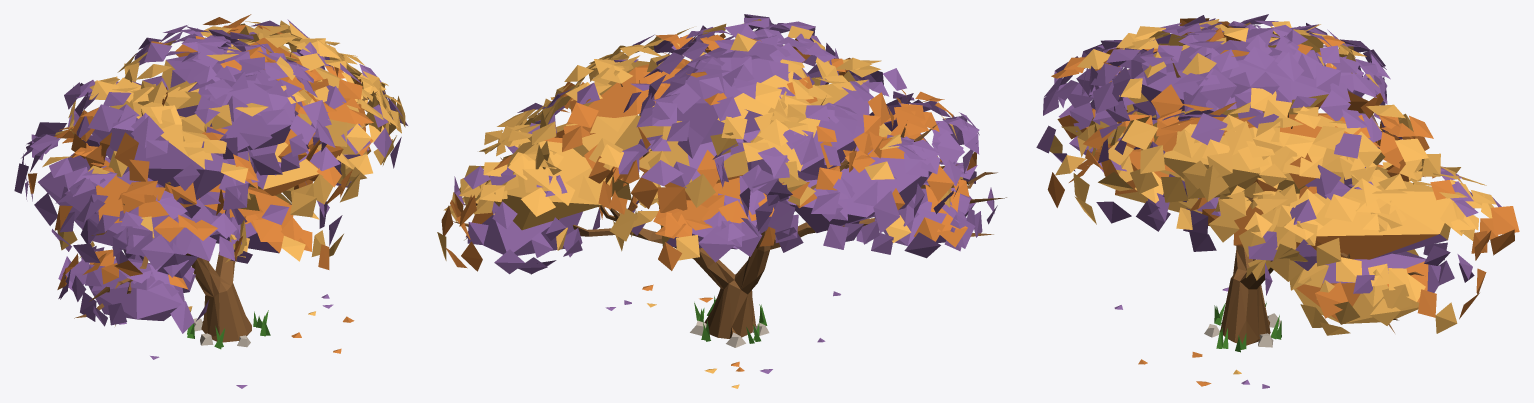
The model's file is jacaranda_1_autumn.glb.
3 views of the same model, side by side, from view 1: azimuth 30°, elevation 25°; view 2: azimuth 150°, elevation 25°; view 3: azimuth 270°, elevation 25° (orthographic). The views are drawn at different scales.
Visible parts, largest first — view 1: jacaranda_1_autumn; view 2: jacaranda_1_autumn; view 3: jacaranda_1_autumn.
Boxes of the visible parts, x1,y1,x2,y2 form: jacaranda_1_autumn: (14,14,407,388); jacaranda_1_autumn: (437,14,1006,388); jacaranda_1_autumn: (1036,14,1519,388).
Bounding box in the file's own units: 9.89 × 6.46 × 9.4.
